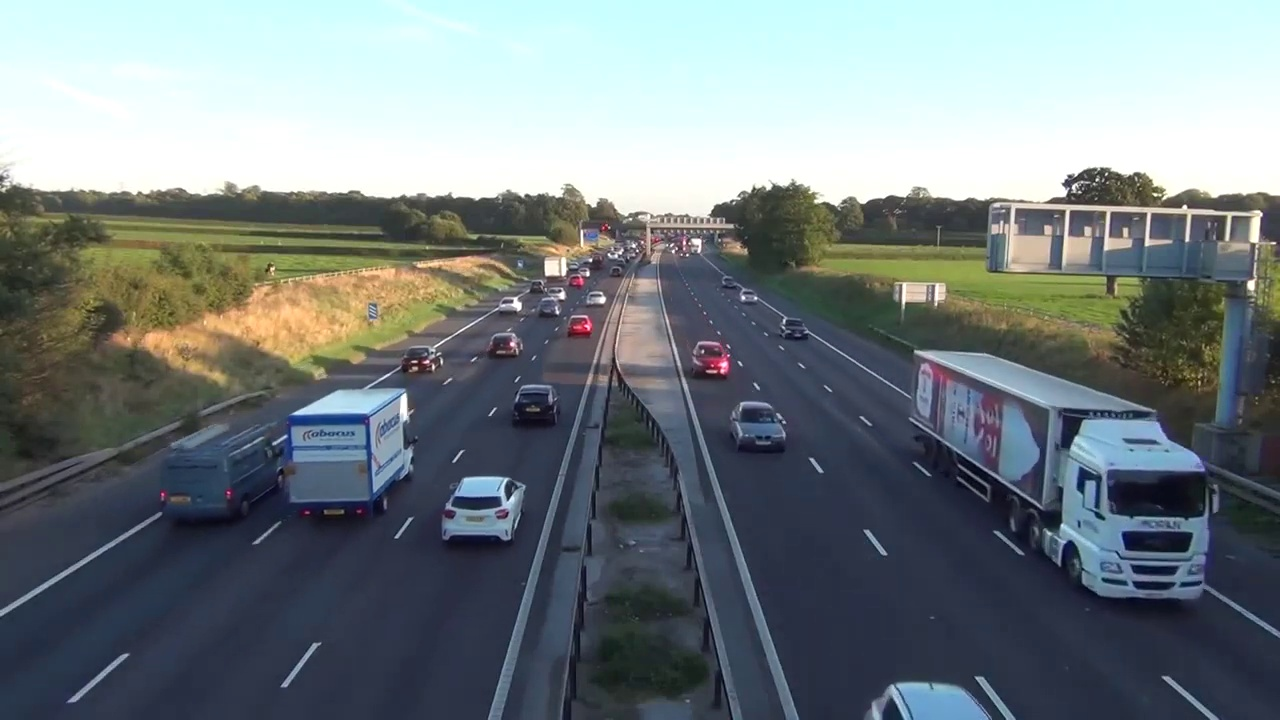bus: (441, 477, 526, 543), (729, 401, 787, 450), (512, 383, 561, 428), (690, 342, 732, 378), (401, 345, 445, 372), (487, 332, 523, 357), (779, 316, 809, 341), (566, 314, 591, 336), (536, 297, 561, 316), (497, 296, 522, 312), (584, 290, 606, 306), (737, 289, 760, 304), (721, 276, 737, 289)
car: (909, 348, 1224, 606), (289, 384, 417, 524), (161, 426, 285, 522)
